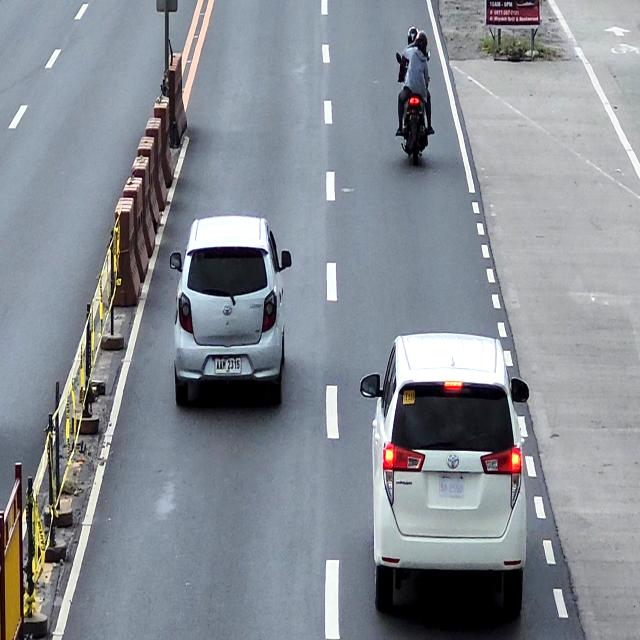Car: (359, 330, 531, 616), (169, 213, 293, 409)
License-Plate: (437, 475, 466, 498), (215, 356, 243, 376)
Motorcycle: (395, 52, 432, 162)
